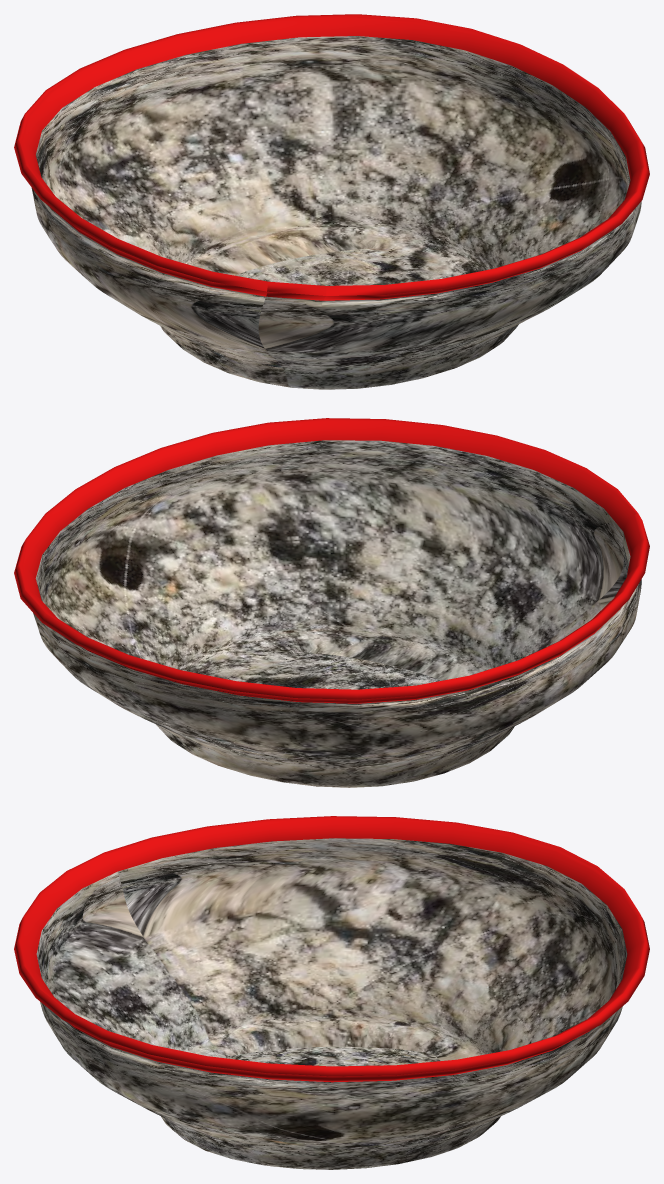
The model's file is Marble-Mortar.glb.
3 renders of one model, top to bottom at view 1: azimuth 30°, elevation 25°; view 2: azimuth 150°, elevation 25°; view 3: azimuth 270°, elevation 25°, orthographic.
Visible parts, largest first — view 1: Cube001, Cube001_1; view 2: Cube001, Cube001_1; view 3: Cube001, Cube001_1.
Boxes of the visible parts, x1=… form: Cube001: x1=31, y1=36, x2=641, y2=389; Cube001_1: x1=14, y1=14, x2=649, y2=300; Cube001: x1=33, y1=440, x2=641, y2=787; Cube001_1: x1=14, y1=418, x2=649, y2=703; Cube001: x1=36, y1=838, x2=627, y2=1169; Cube001_1: x1=14, y1=816, x2=649, y2=1082.
Bounding box in the file's own units: 6.69 × 2.08 × 7.07.
2 materials, 1 textured.
